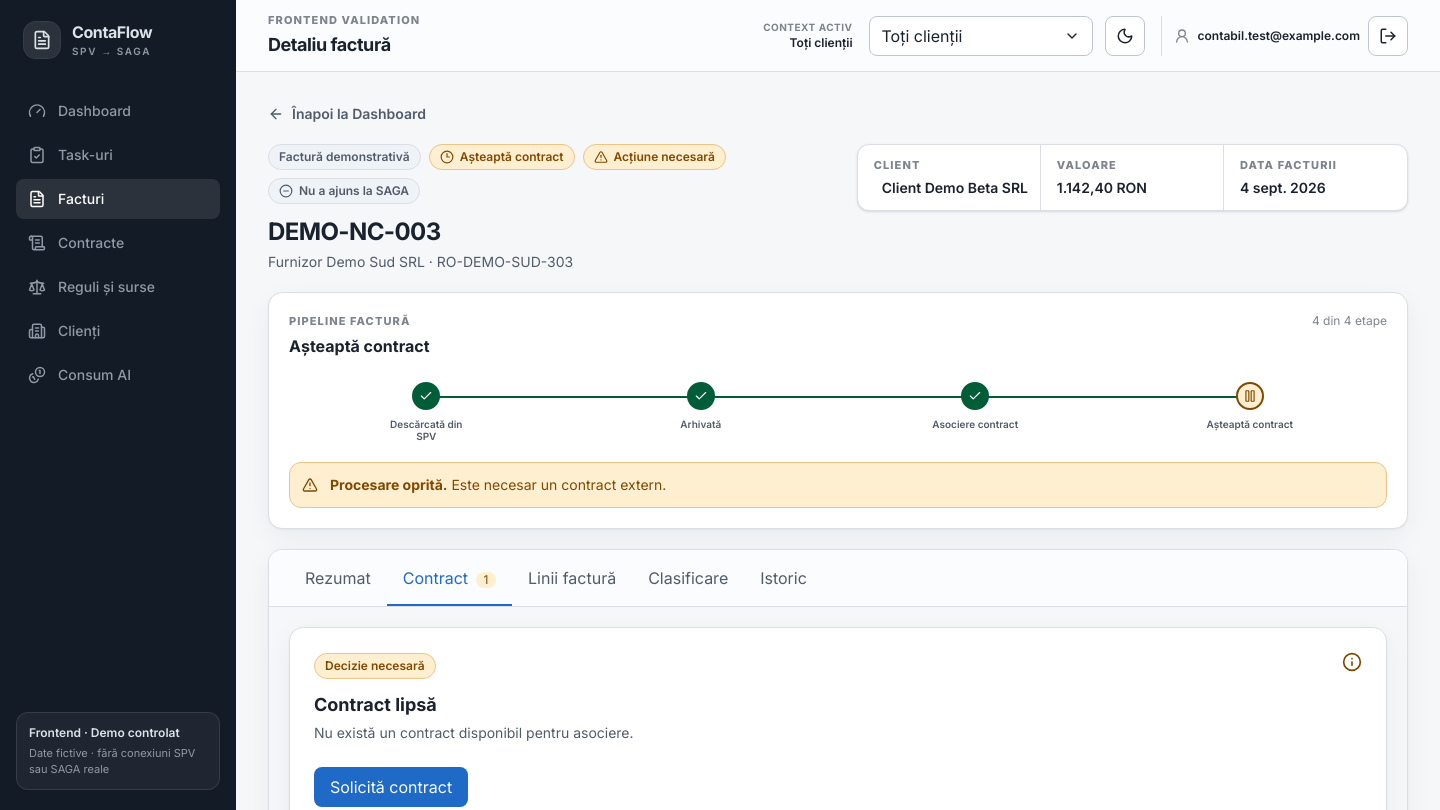
Test: fluxurile principale ale facturii › keeps the missing-contract task and invoice waiting after the request
The image size is (1440, 810).
Click the button "Solicită contract" at [391, 786], box [314,766,468,806]
(page scrolled)
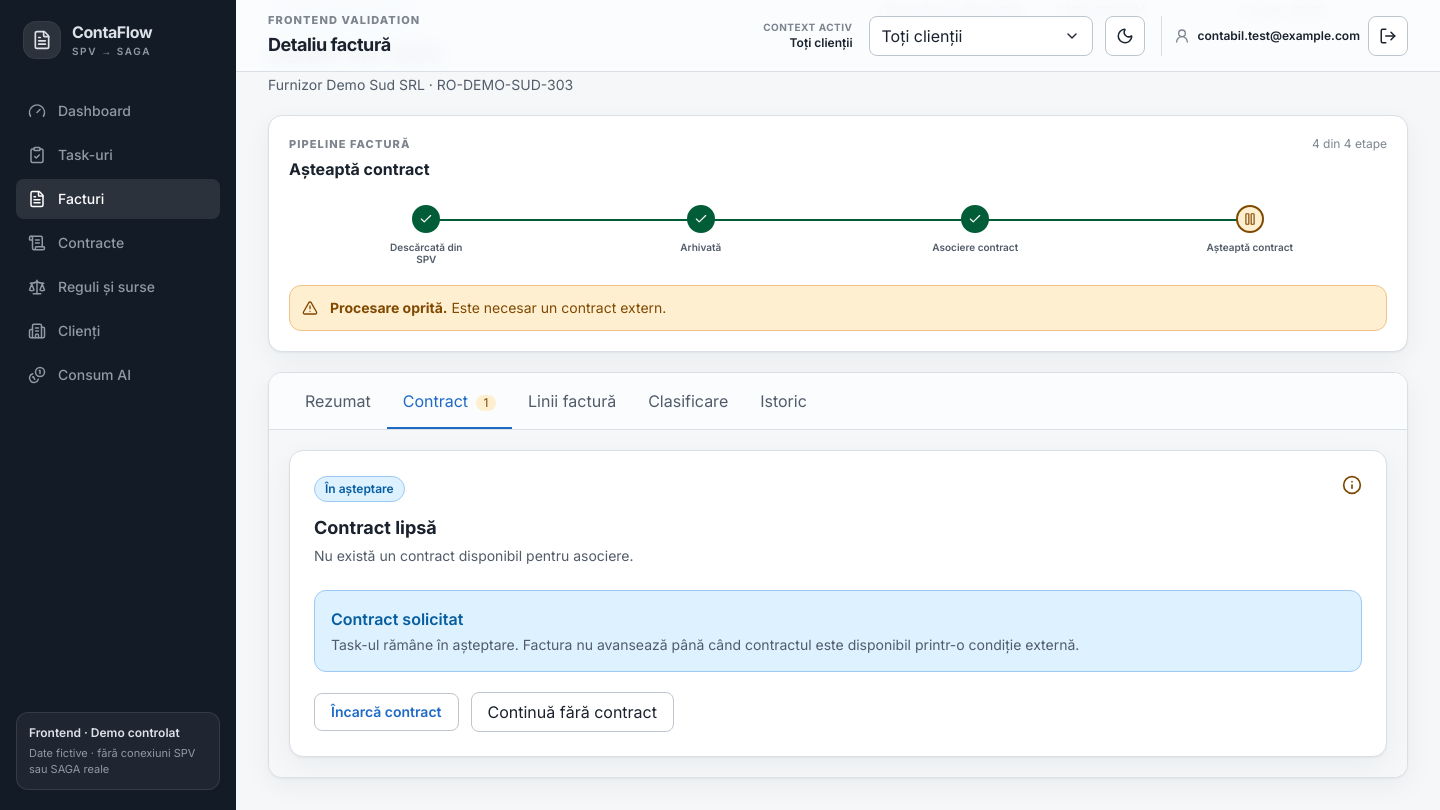
Expected: the text "Contract solicitat" is shown, [331,608,463,628]
Expected: the text "Task-ul rămâne în așteptare" is shown, [331,636,1079,652]
